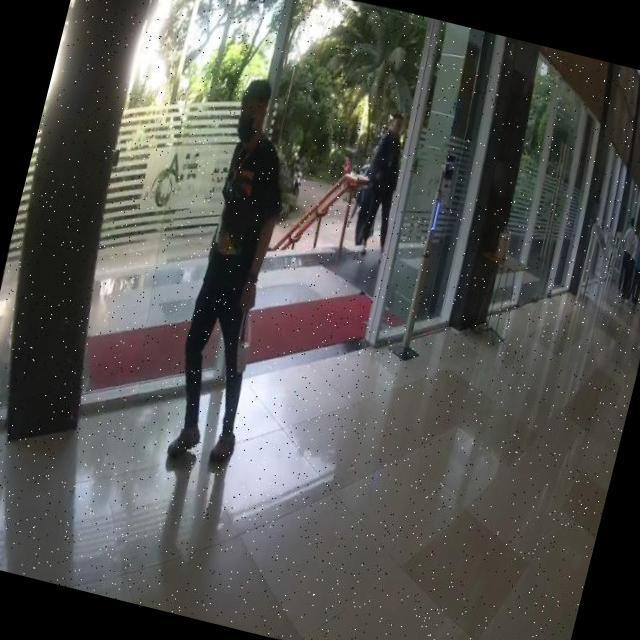person: (151, 72, 323, 472), (348, 110, 418, 266)
